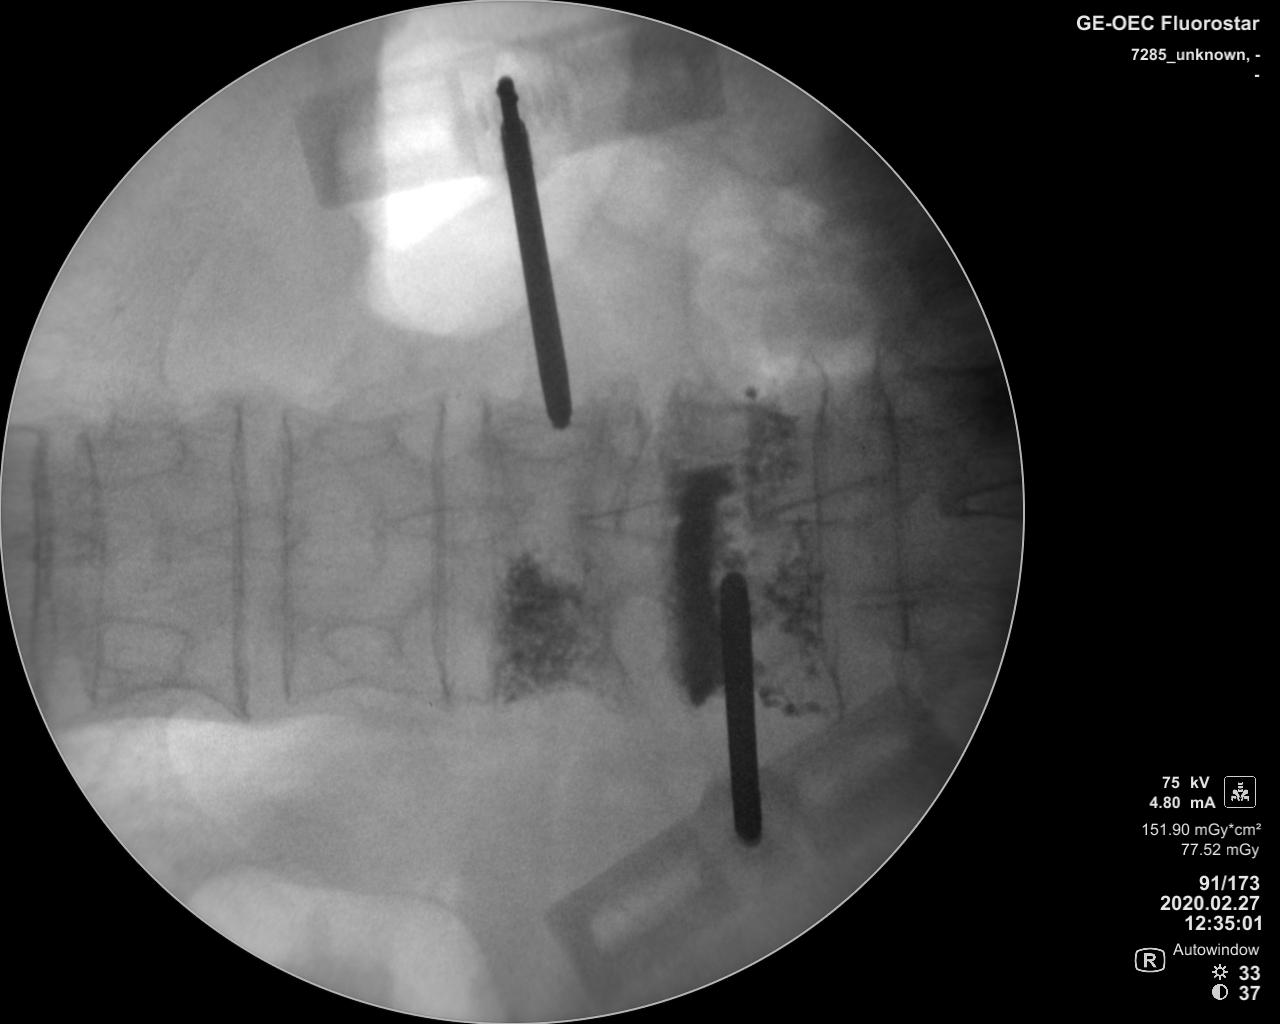eyes: (85, 426, 187, 485), (87, 616, 197, 670), (492, 418, 594, 464), (319, 620, 405, 673), (309, 415, 402, 463)
line: (805, 351, 847, 715), (872, 355, 914, 669), (427, 389, 458, 705), (227, 400, 256, 721), (76, 428, 104, 706), (28, 430, 54, 701), (276, 404, 296, 709)
nose: (760, 475, 904, 527), (382, 501, 519, 549), (189, 510, 310, 553), (569, 501, 681, 545), (939, 478, 1026, 522), (11, 527, 107, 567)
